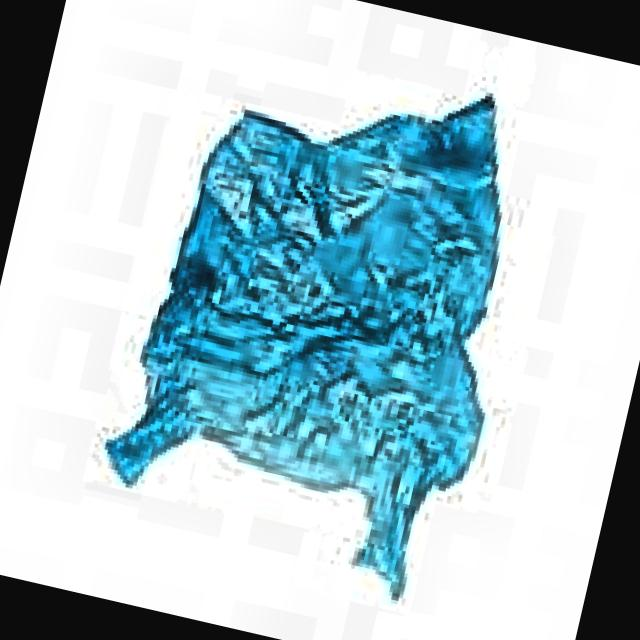plastic bag: (107, 100, 496, 598)
